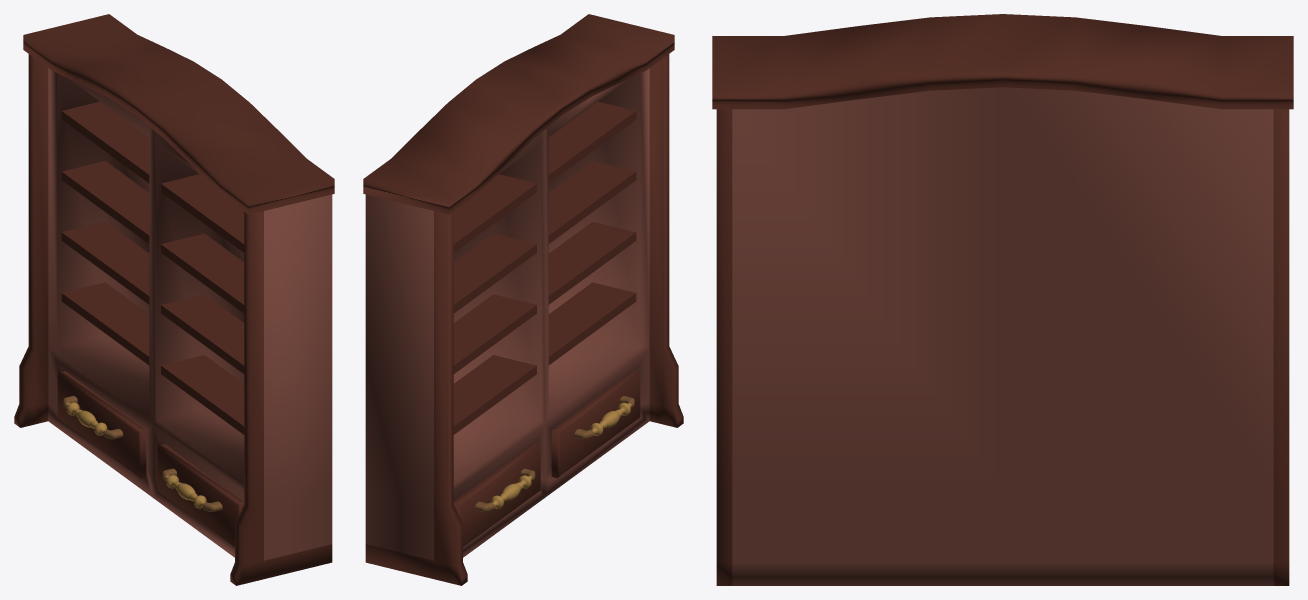
File: BookShelf.fbx
3 renders of one model, left to right at view 1: azimuth 30°, elevation 25°; view 2: azimuth 150°, elevation 25°; view 3: azimuth 270°, elevation 25°, orthographic. The views are drawn at different scales.
Visible parts, largest first — view 1: Bookshelf_Body, Bookshelf_Shelves, Bookshelf_Top, Bookshelf_Drawer_01, Bookshelf_Drawer_02, Bookshelf_Handle_01, Bookshelf_Handle_02; view 2: Bookshelf_Body, Bookshelf_Shelves, Bookshelf_Top, Bookshelf_Drawer_02, Bookshelf_Drawer_01, Bookshelf_Handle_01, Bookshelf_Handle_02; view 3: Bookshelf_Body, Bookshelf_Top.
Part boxes in pixels (left/top/right/bottom): Bookshelf_Body: left=14, top=54, right=332, bottom=585; Bookshelf_Shelves: left=61, top=101, right=244, bottom=434; Bookshelf_Top: left=23, top=14, right=334, bottom=214; Bookshelf_Drawer_01: left=57, top=370, right=146, bottom=477; Bookshelf_Drawer_02: left=157, top=443, right=244, bottom=546; Bookshelf_Handle_01: left=63, top=395, right=123, bottom=439; Bookshelf_Handle_02: left=162, top=468, right=222, bottom=511; Bookshelf_Body: left=365, top=54, right=683, bottom=585; Bookshelf_Shelves: left=453, top=101, right=636, bottom=434; Bookshelf_Top: left=363, top=14, right=674, bottom=214; Bookshelf_Drawer_02: left=551, top=370, right=640, bottom=477; Bookshelf_Drawer_01: left=453, top=443, right=540, bottom=546; Bookshelf_Handle_01: left=475, top=468, right=535, bottom=512; Bookshelf_Handle_02: left=574, top=396, right=634, bottom=439; Bookshelf_Body: left=716, top=87, right=1289, bottom=585; Bookshelf_Top: left=712, top=14, right=1293, bottom=109.
Bounding box in the file's own units: 1175 × 4674 × 4752.
